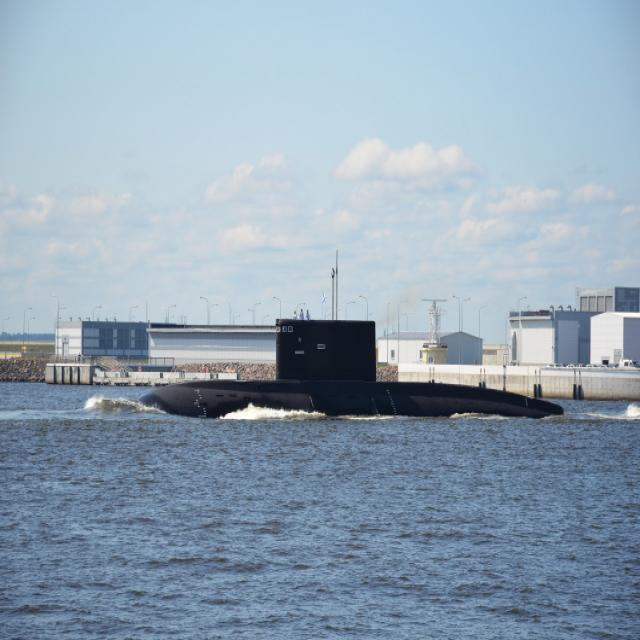submarine: (147, 318, 600, 417)
